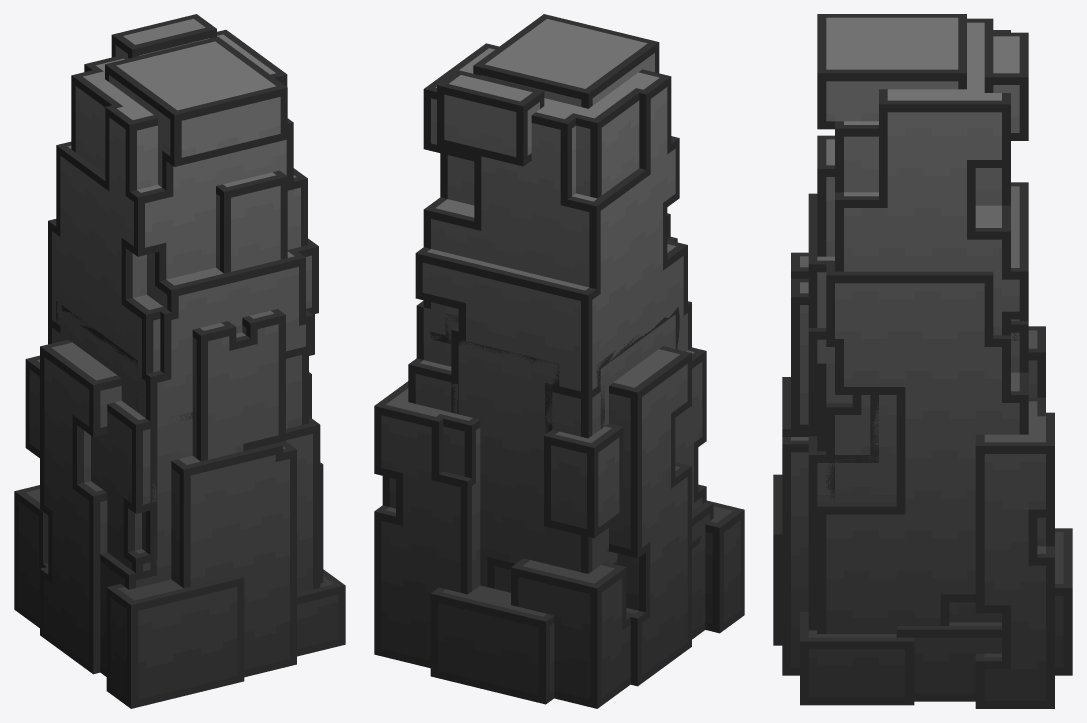
Rendered from Ruins.fbx.
3 renders of one model, left to right at view 1: azimuth 30°, elevation 25°; view 2: azimuth 150°, elevation 25°; view 3: azimuth 270°, elevation 25°, orthographic. The views are drawn at different scales.
Visible parts, largest first — view 1: Ruin Pillar 1, Ruin Pillar 2; view 2: Ruin Pillar 1, Ruin Pillar 2; view 3: Ruin Pillar 1, Ruin Pillar 2.
Boxes of the visible parts, left/top/right/bottom form: Ruin Pillar 1: left=14, top=14, right=345, bottom=708; Ruin Pillar 2: left=25, top=301, right=311, bottom=639; Ruin Pillar 1: left=374, top=14, right=744, bottom=708; Ruin Pillar 2: left=429, top=307, right=706, bottom=634; Ruin Pillar 1: left=773, top=14, right=1072, bottom=708; Ruin Pillar 2: left=791, top=252, right=1045, bottom=701.
Bounding box in the file's own units: 0.66 × 0.68 × 1.52.
Materials: 1 (1 with a texture image).
